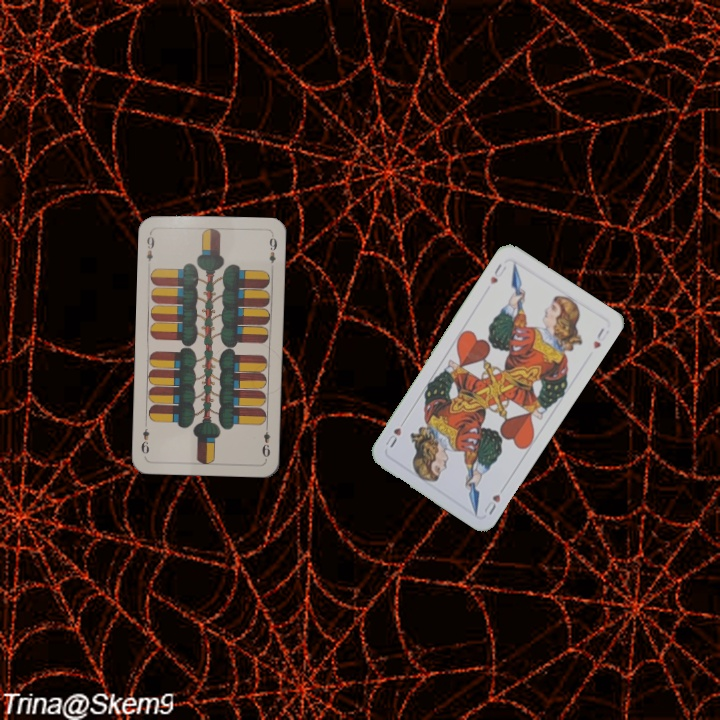E9: (258, 421, 273, 461), (142, 229, 157, 269)
HU: (486, 259, 509, 287), (480, 490, 503, 518)
